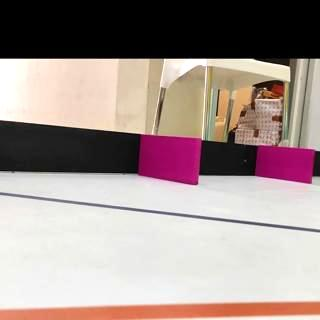xparking: (144, 138, 198, 184), (260, 150, 312, 182)
